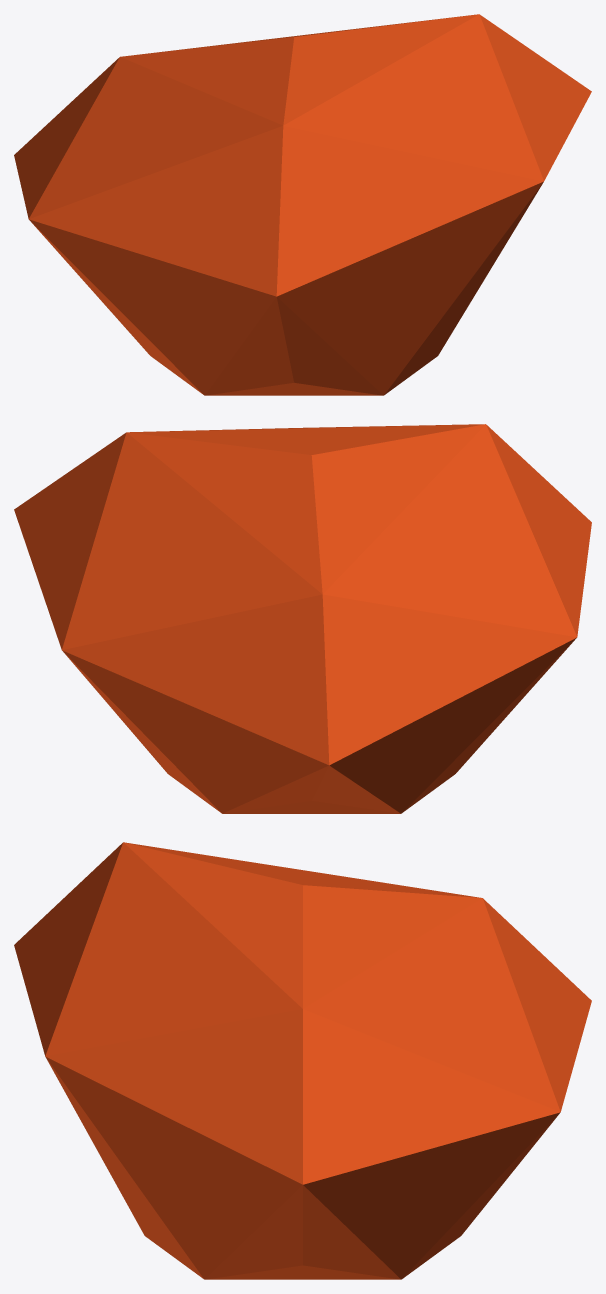
Rendered from Bush 3.fbx.
3 views of the same model, one above another, from view 1: azimuth 30°, elevation 25°; view 2: azimuth 150°, elevation 25°; view 3: azimuth 270°, elevation 25° (orthographic). The views are drawn at different scales.
Visible parts, largest first — view 1: Bush 3; view 2: Bush 3; view 3: Bush 3.
Boxes of the visible parts, x1,y1,x2,y2 form: Bush 3: (14,14,591,395); Bush 3: (14,424,591,813); Bush 3: (14,842,591,1279).
Bounding box in the file's own units: 52.94 × 28.55 × 42.75.
1 material, 1 textured.
